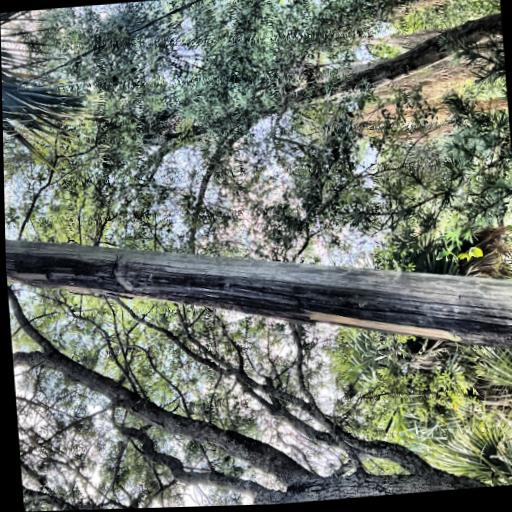pole: (0, 0, 207, 512)
